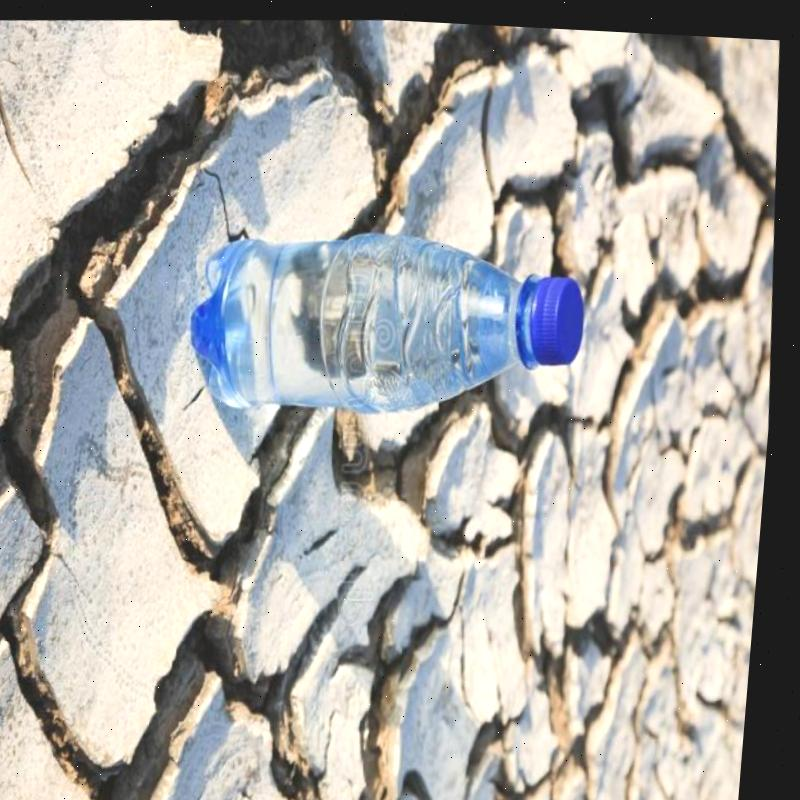botella: (186, 216, 597, 427)
